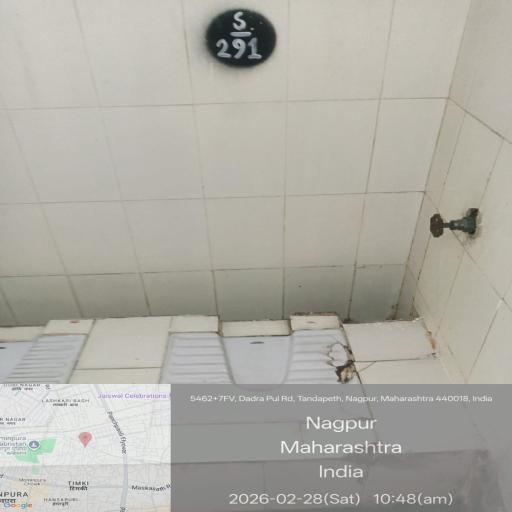clean_floor: (0, 0, 509, 306)
partial_dirty_floor: (0, 305, 512, 390)
